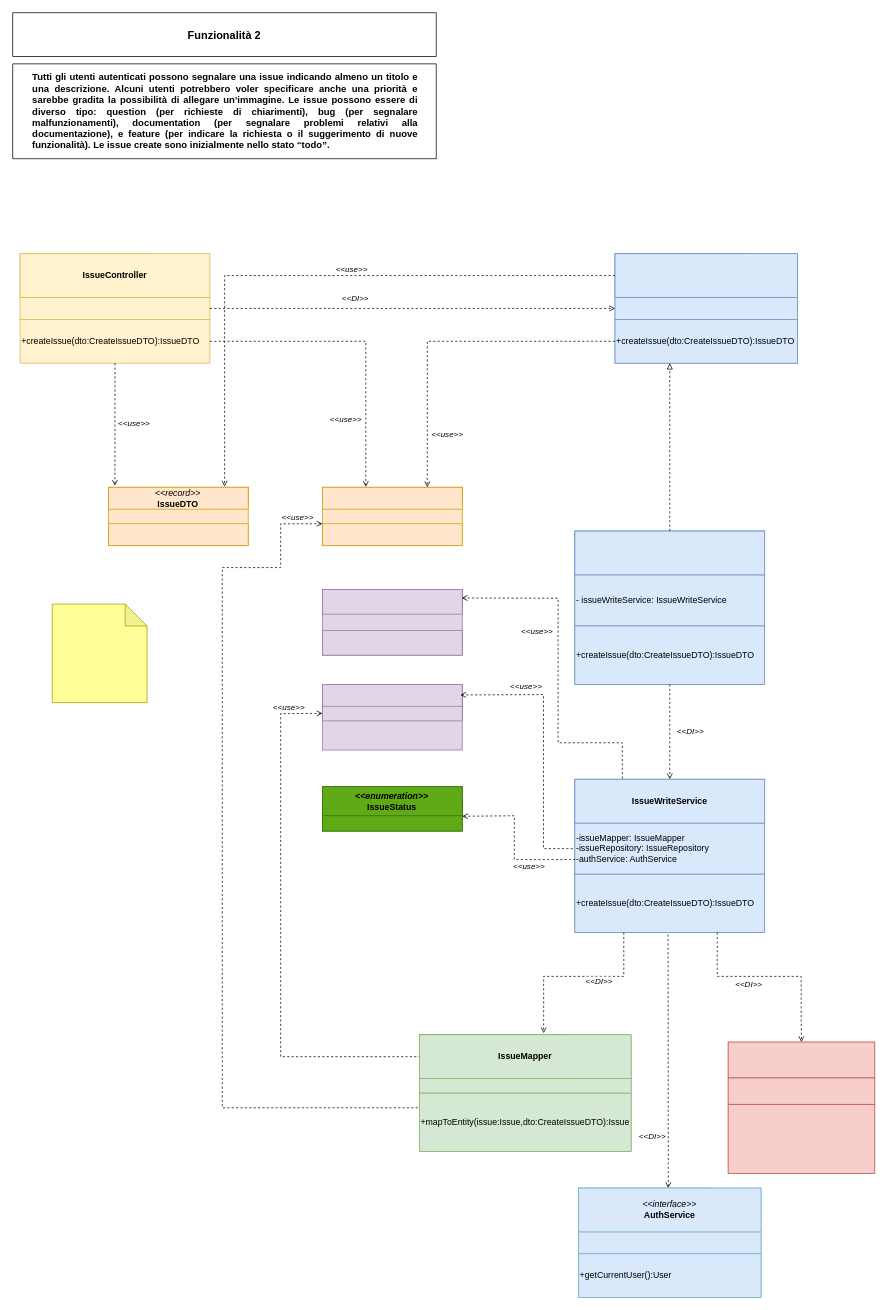
Image size: 888x1310. Some labels were removed from this diagram. The shapes that lost their labels are listed below. From the top down, each one's centre as x and y in pixels, then its label:
the point at 706,275: <<interface>> IssueService
the point at 114,308: -issueService:IssueService
the point at 392,498: << record>> CreateIssueDTO
the point at 669,552: IssueServiceImpl
the point at 392,601: User
the point at 99,653: La notazione <<DI>> indica una Dependency Injection
the point at 392,695: Issue
the point at 801,1059: <<interface>> IssueRepository
